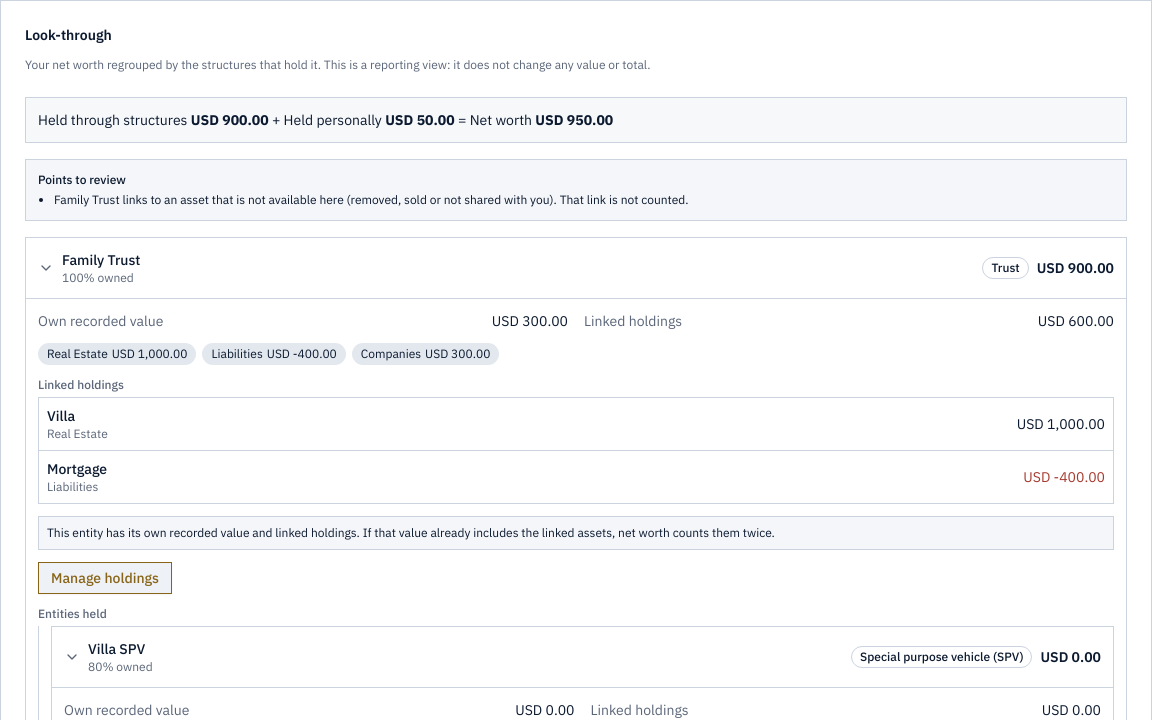
EntityLookthrough › collapses and expands an entity with an accessible disclosure button
Click the button "Villa SPV 80% owned" at (117, 649), box [64, 639, 843, 675]
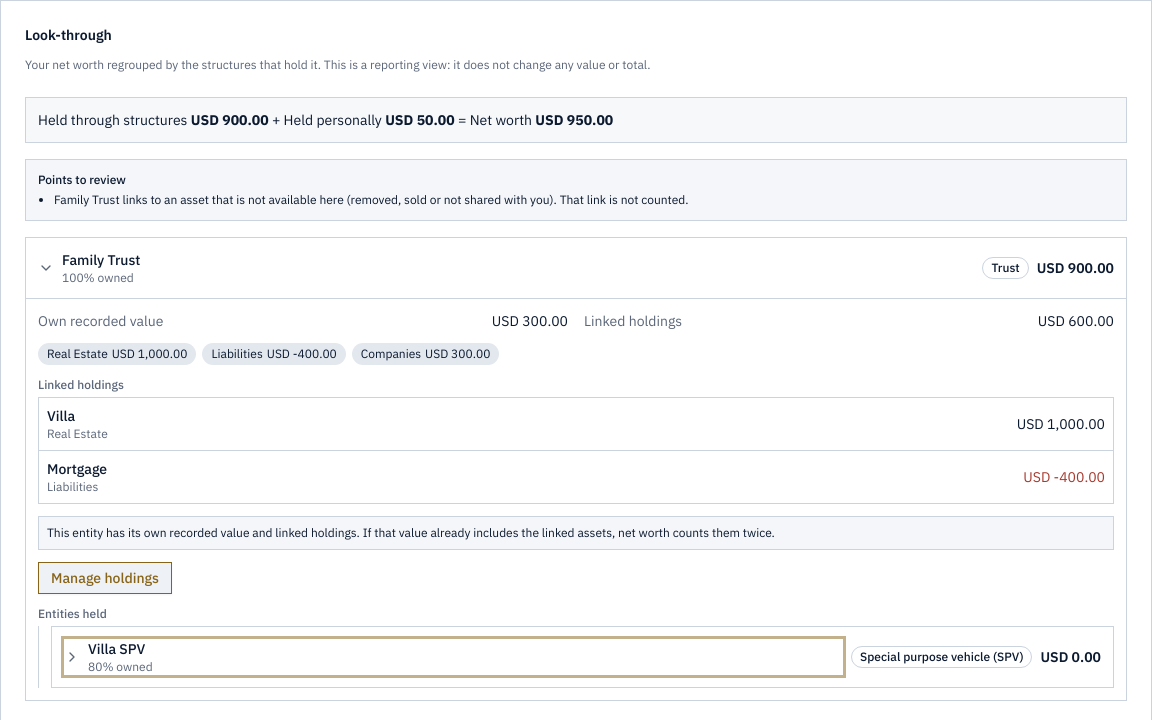
Expected: the button "Villa SPV 80% owned" is collapsed, [64, 639, 843, 675]
Press Enter
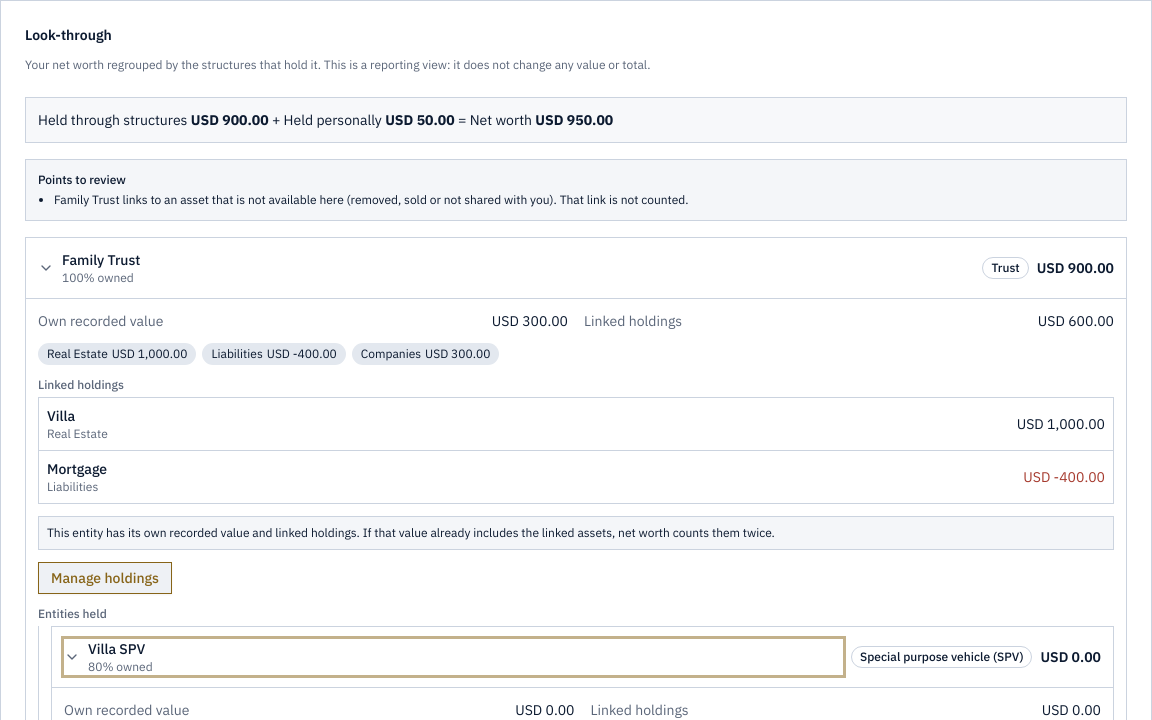
Expected: the button "Villa SPV 80% owned" is expanded, [64, 639, 843, 675]
